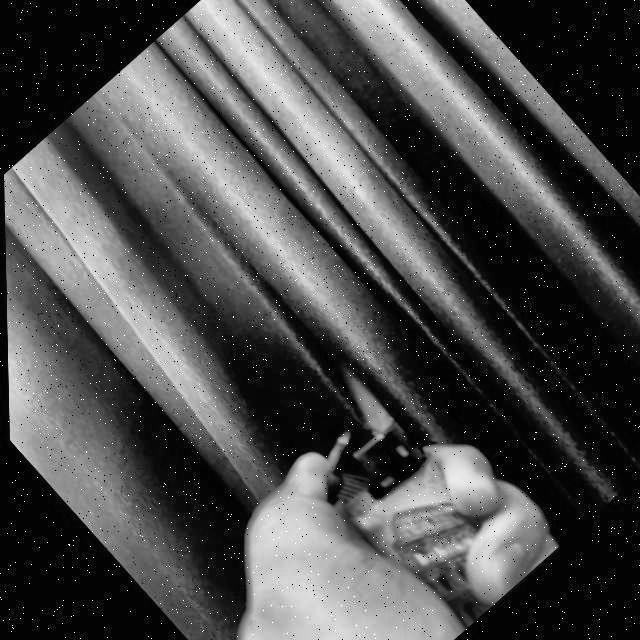Fire: (323, 359, 399, 439)
